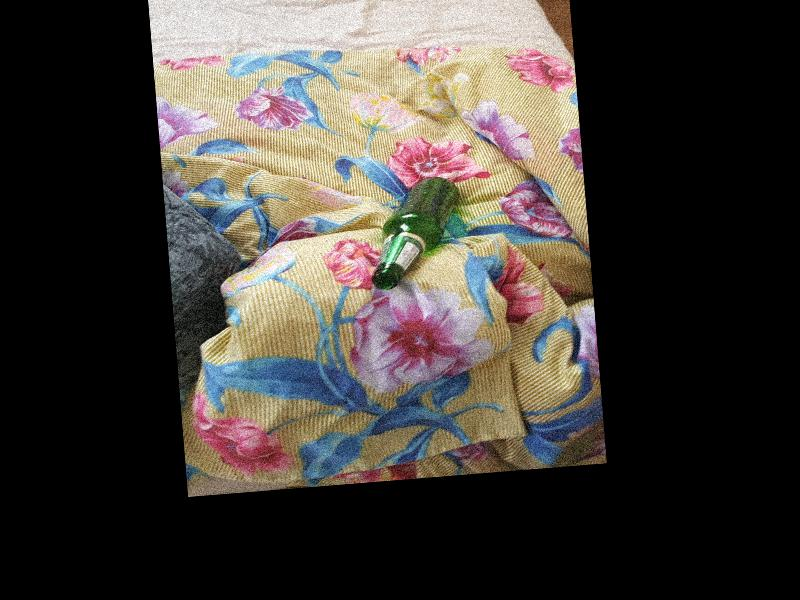Beer: (366, 175, 466, 291)
